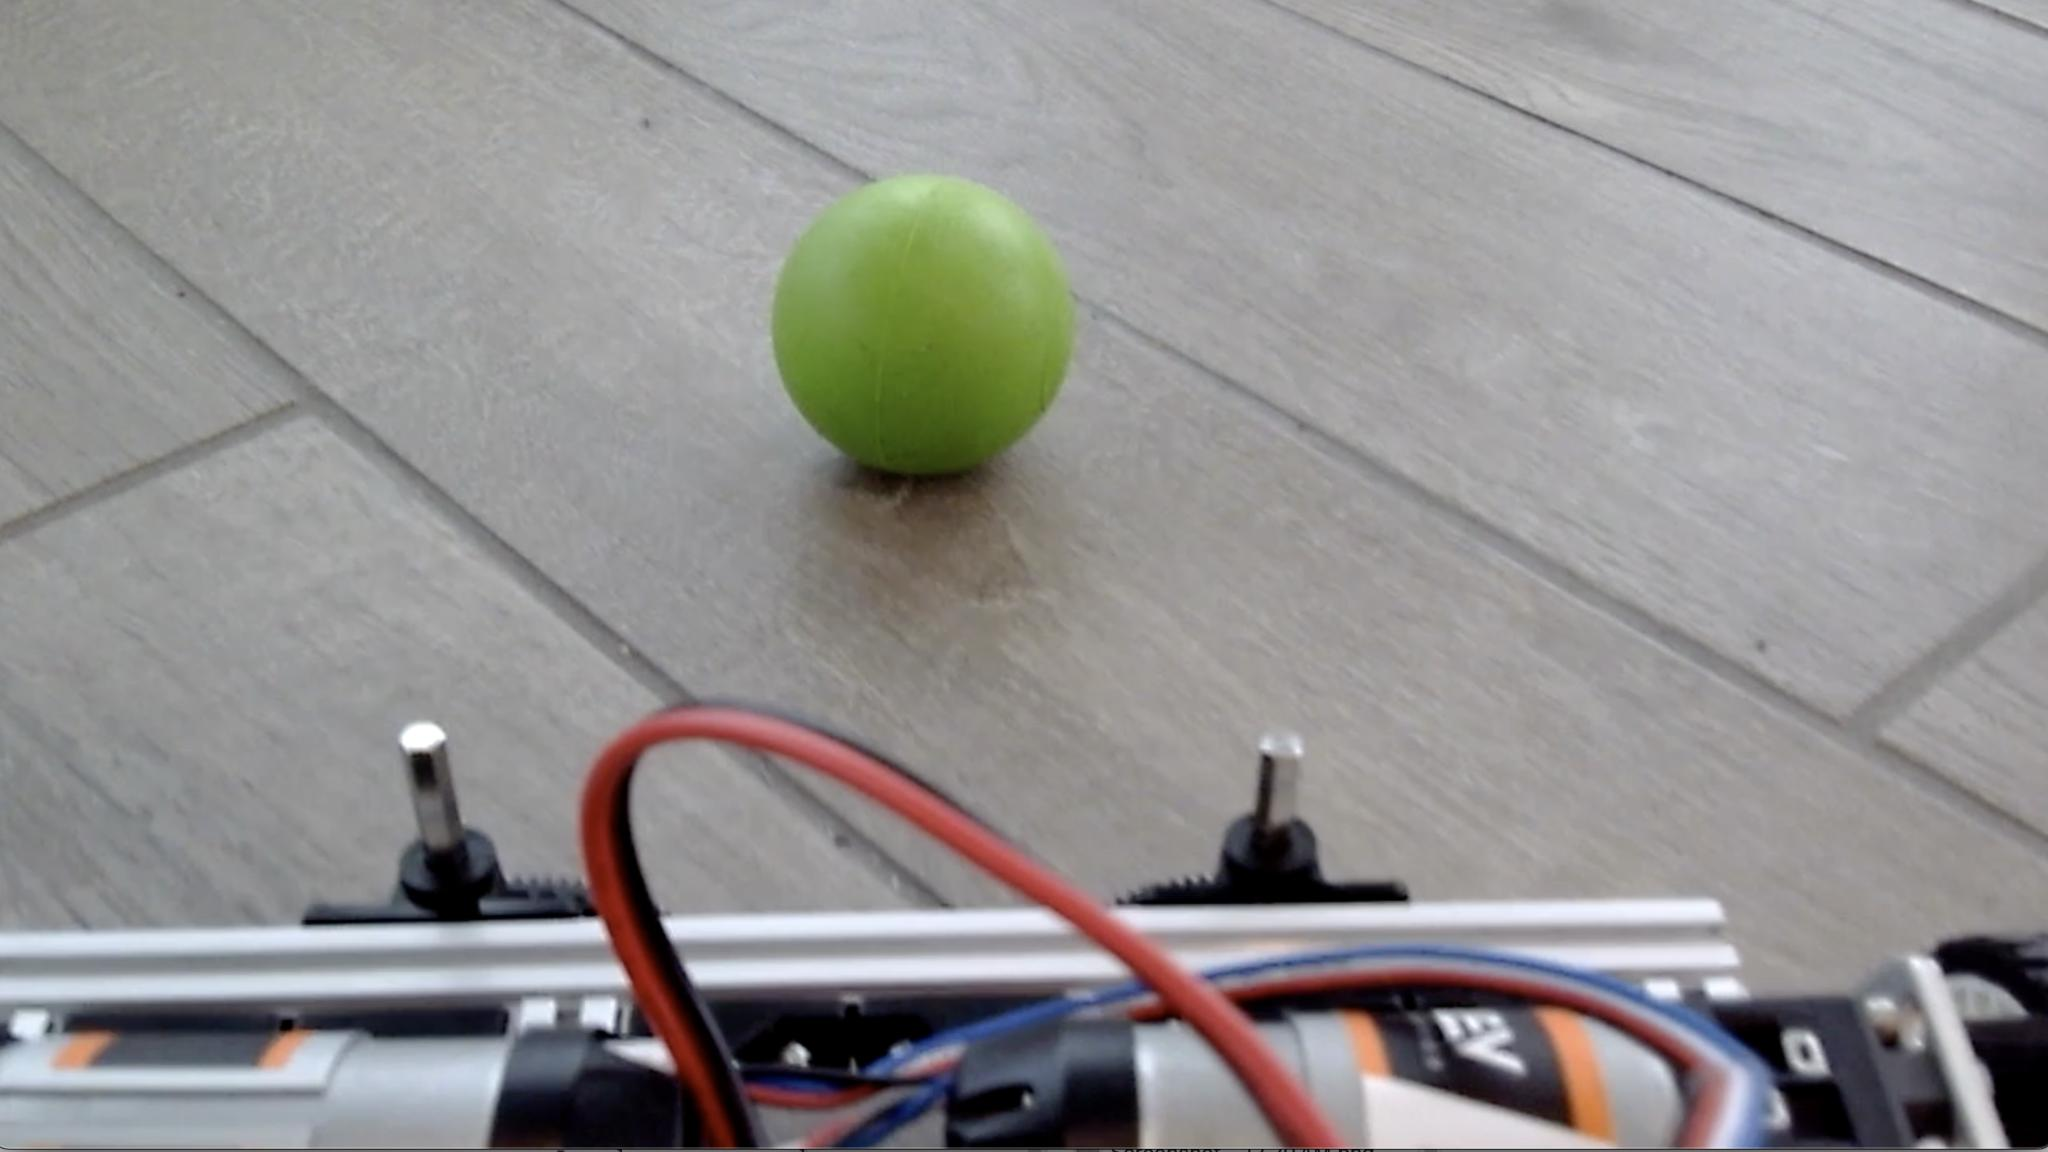greenball: (768, 169, 1076, 479)
